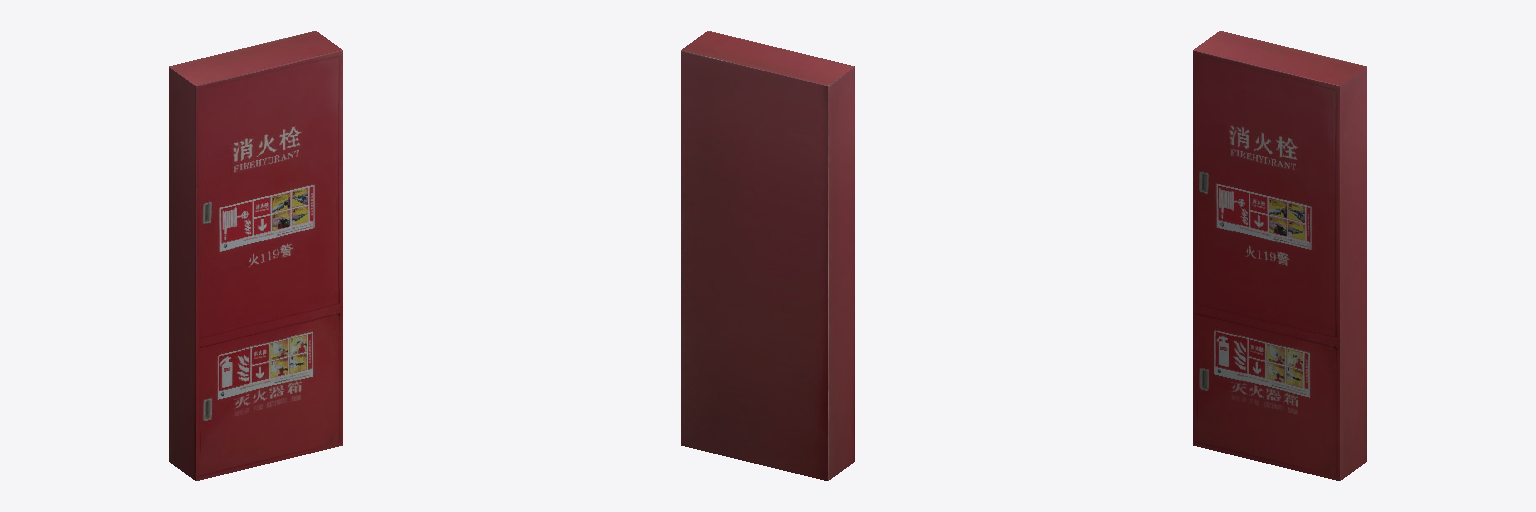
3 views of the same model, side by side, from view 1: azimuth 30°, elevation 25°; view 2: azimuth 150°, elevation 25°; view 3: azimuth 330°, elevation 25° (orthographic).
Visible parts, largest first — view 1: Layer0_003; view 2: Layer0_003; view 3: Layer0_003.
Boxes of the visible parts, x1,y1,x2,y2 form: Layer0_003: [169, 31, 342, 480]; Layer0_003: [681, 31, 854, 480]; Layer0_003: [1193, 31, 1366, 480].
Bounding box in the file's own units: 0.667 × 1.71 × 0.214.
Materials: 1 (1 with a texture image).